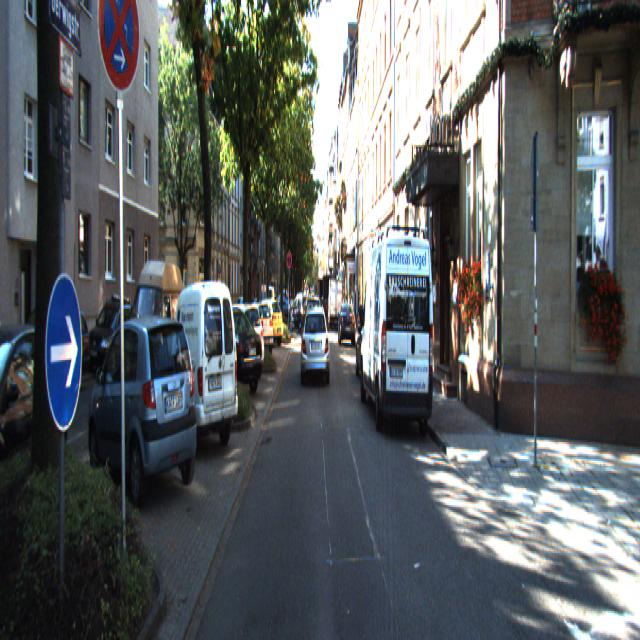Car: (87, 315, 202, 518), (145, 281, 240, 465), (359, 236, 436, 443), (0, 322, 74, 514), (2, 305, 94, 405), (124, 258, 187, 396), (197, 309, 265, 403), (207, 304, 268, 386), (86, 294, 136, 376), (233, 301, 276, 358), (301, 305, 330, 384), (247, 300, 284, 352), (304, 299, 322, 353), (339, 303, 356, 347), (328, 278, 342, 329)
